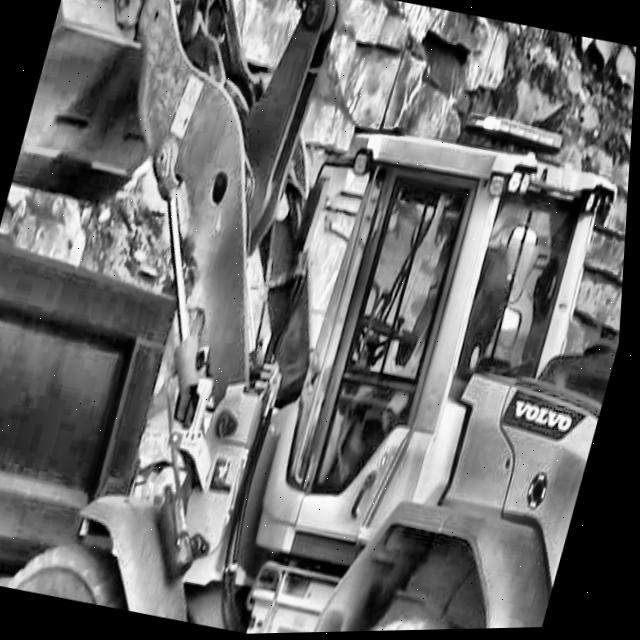buldozerpayloadergrader: (0, 0, 640, 640)
dump_truck: (0, 140, 212, 607)
